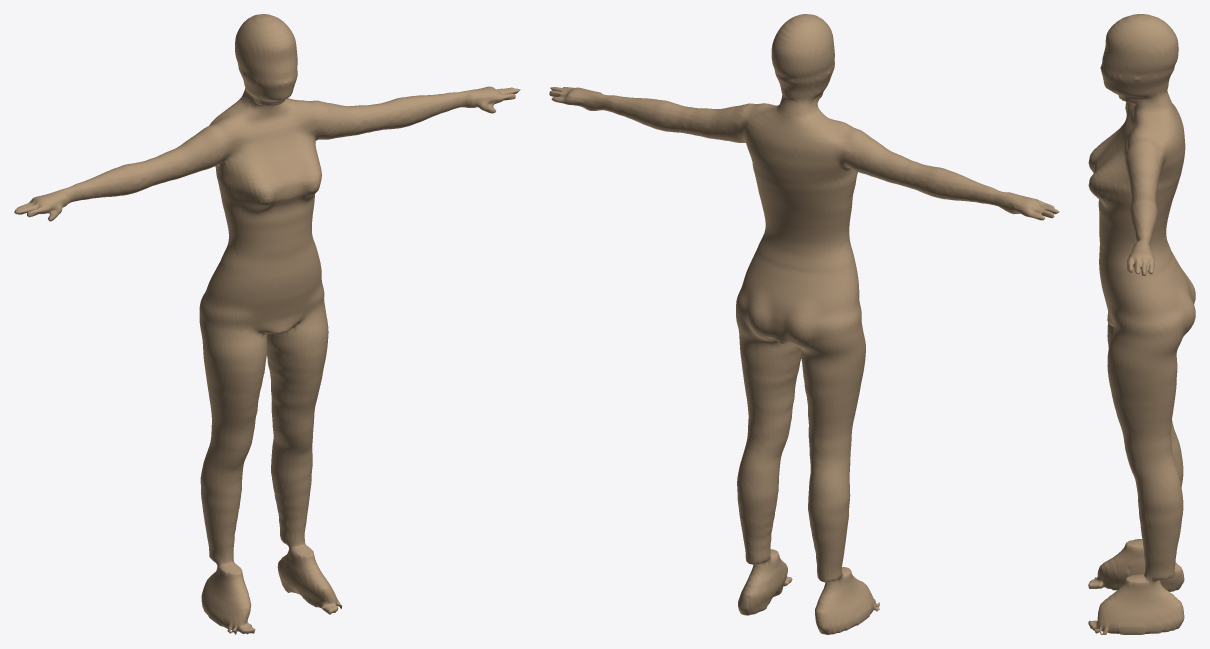
File: female-mannequin.glb
3 views of the same model, side by side, from view 1: azimuth 30°, elevation 25°; view 2: azimuth 150°, elevation 25°; view 3: azimuth 270°, elevation 25° (orthographic).
Visible parts, largest first — view 1: ContinuousReferenceBody; view 2: ContinuousReferenceBody; view 3: ContinuousReferenceBody.
Part boxes in pixels (x1,y1,x2,y2): ContinuousReferenceBody: (14,14,520,634); ContinuousReferenceBody: (549,14,1059,634); ContinuousReferenceBody: (1088,14,1195,634).
Bounding box in the file's own units: 1.57 × 1.75 × 0.2879.
